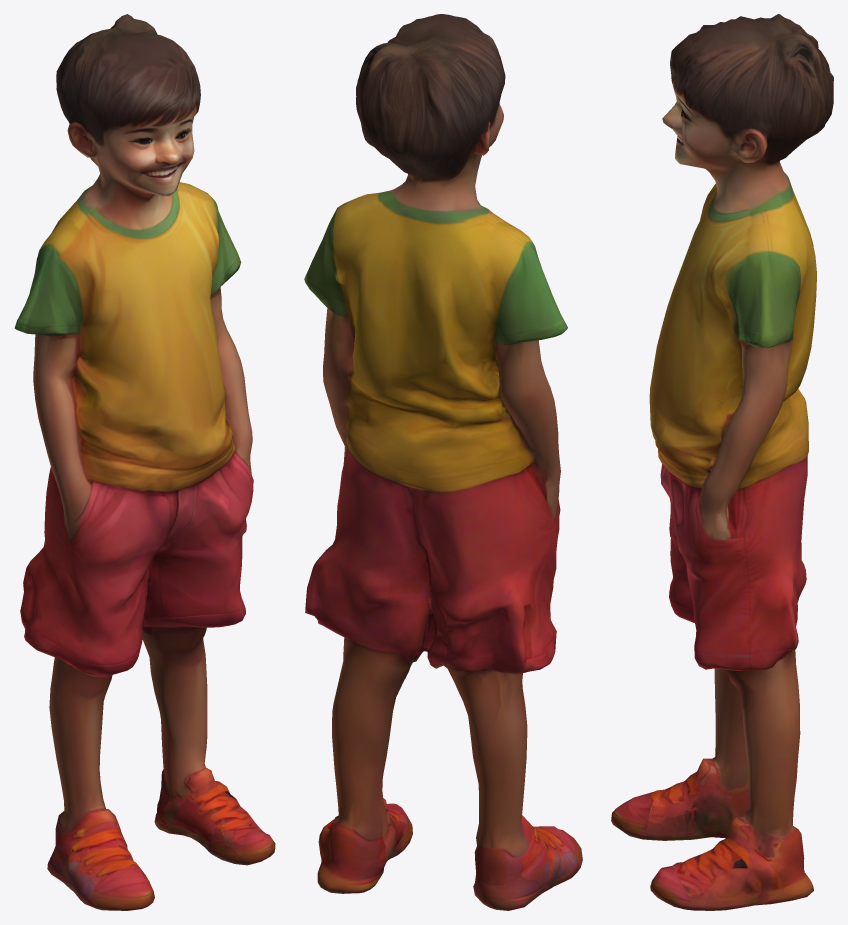
File: brother.glb
The picture shows the model from 3 angles, left to right: view 1: azimuth 30°, elevation 25°; view 2: azimuth 150°, elevation 25°; view 3: azimuth 270°, elevation 25°; orthographic projection. The views are drawn at different scales.
Size of the model in its own units: 19877 by 65570 by 15841.
1 material, 1 textured.
